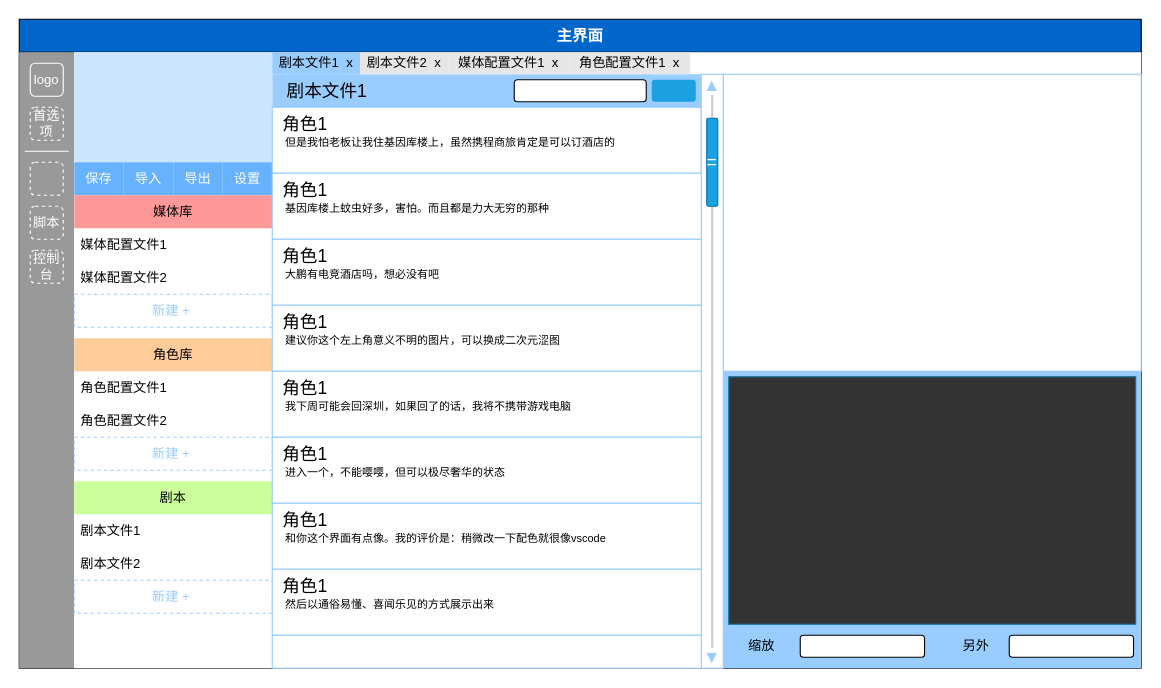
Image size: 1161x688. Some labels were removed from this diagram. Here are the shapes that lost their labels. From the top down, the centre of each, then its label:
the point at 173,107: 标题图
the point at 673,90: 搜索
the point at 46,178: 项目
the point at 931,222: 单元格参数设置
the point at 932,500: 预览画面
